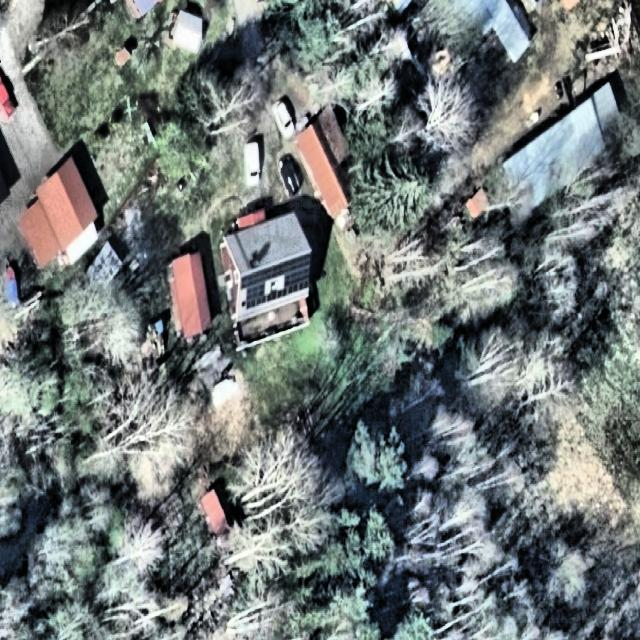roof_pv: (284, 250, 312, 298), (242, 268, 268, 308), (265, 261, 286, 283), (263, 289, 290, 305)
